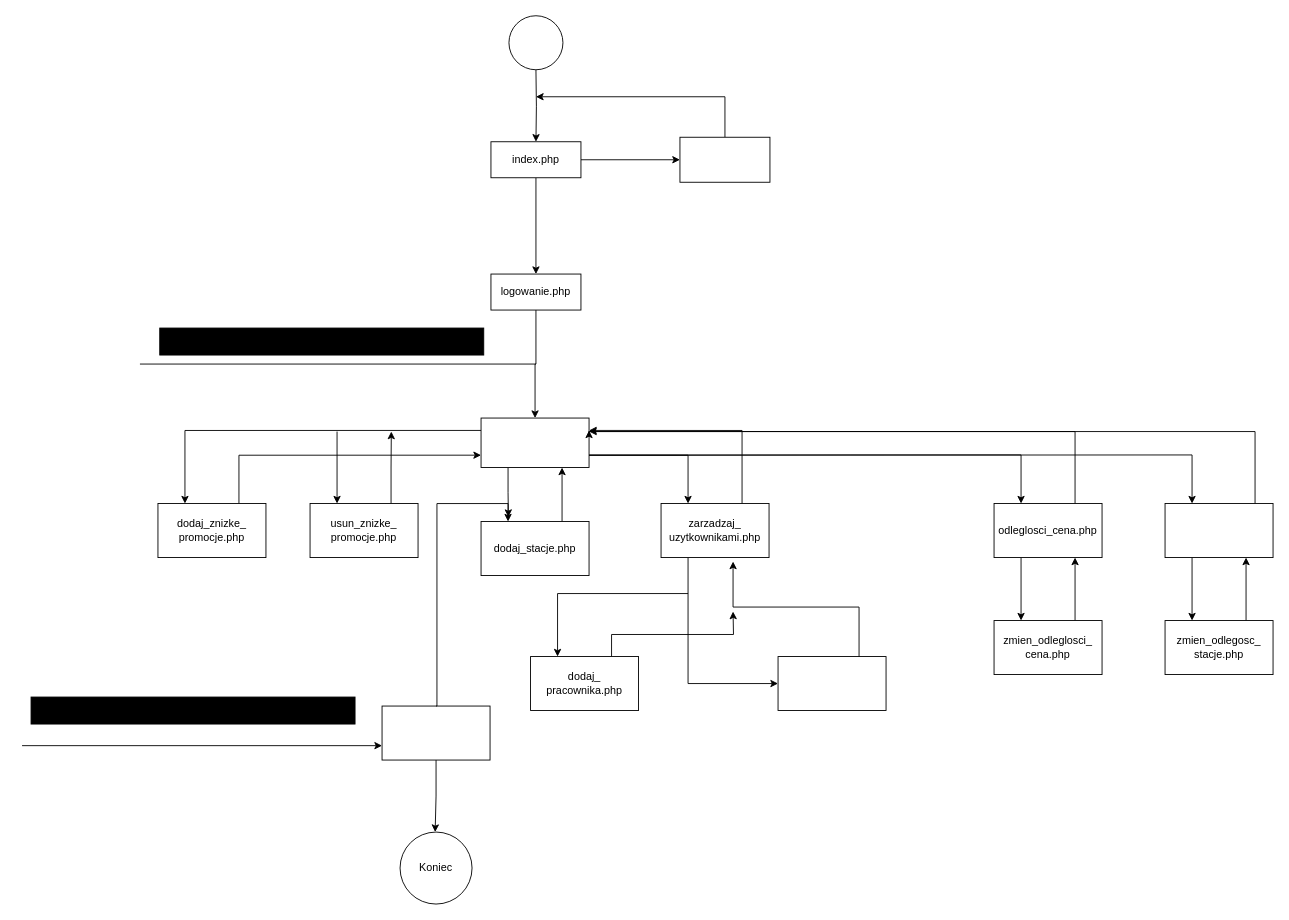
This 1289x920 diagram has some shape labels left out. Here are the shapes that lost their labels. From the top down, the box of each, then its label:
(508, 15, 563, 70): Start
(679, 136, 770, 182): zarejestruj.php
(480, 417, 589, 468): index_admin.php
(1164, 503, 1273, 558): odleglosci_stacje.php
(777, 656, 886, 711): usun_konto.php
(381, 705, 490, 760): wyloguj.php
